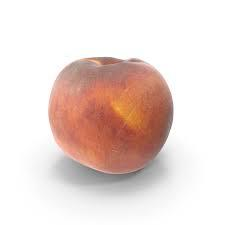non-mango: (47, 55, 174, 175)
